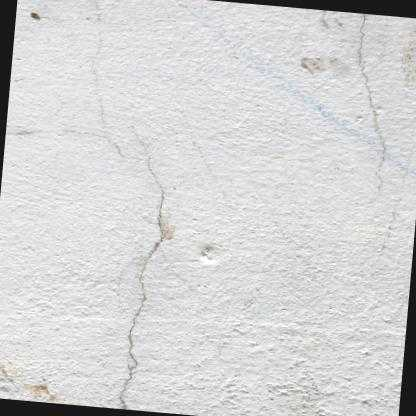crack: (118, 133, 165, 410), (356, 14, 387, 183)
